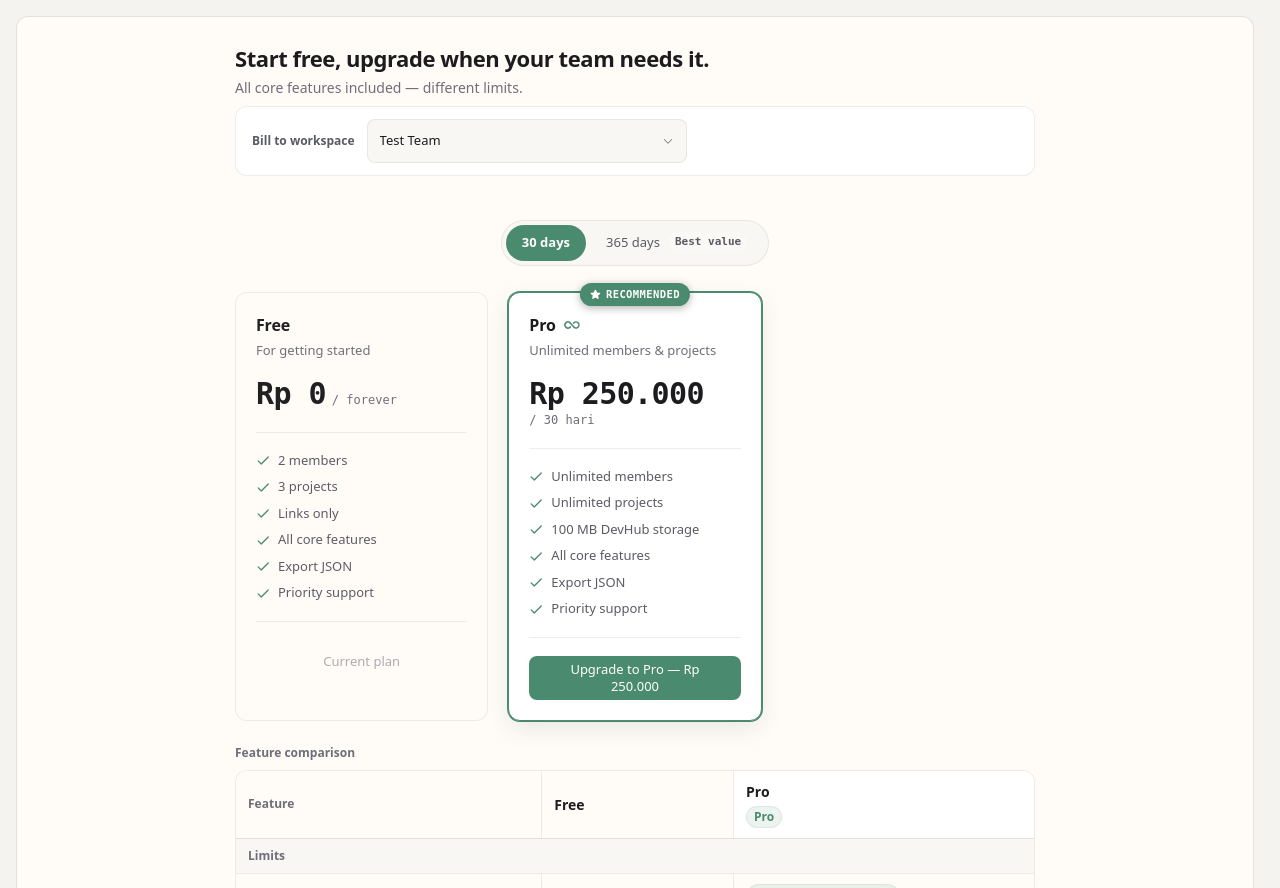
it: PricingPage (single-page flow) › shows checkout error inside the modal and allows retry
Check: the heading "Pro" is shown, box [529, 314, 580, 336]
Click the button "Upgrade to Pro — Rp 250.000".
click(635, 678)  # box [529, 656, 741, 700]
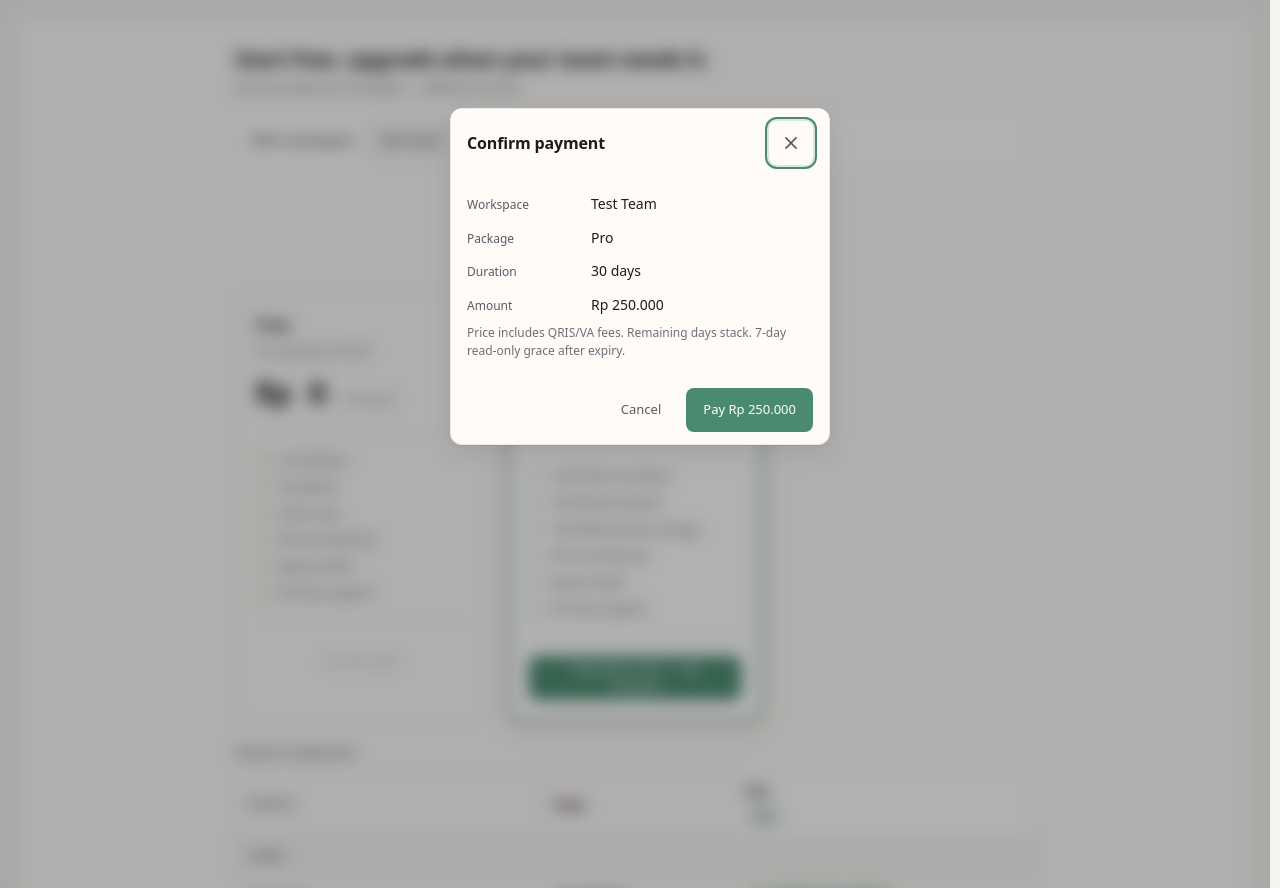
Check: the heading "Confirm payment" is shown, box [467, 133, 605, 153]
Click the button "Pay Rp 250.000".
click(750, 410)  # box [686, 388, 813, 432]
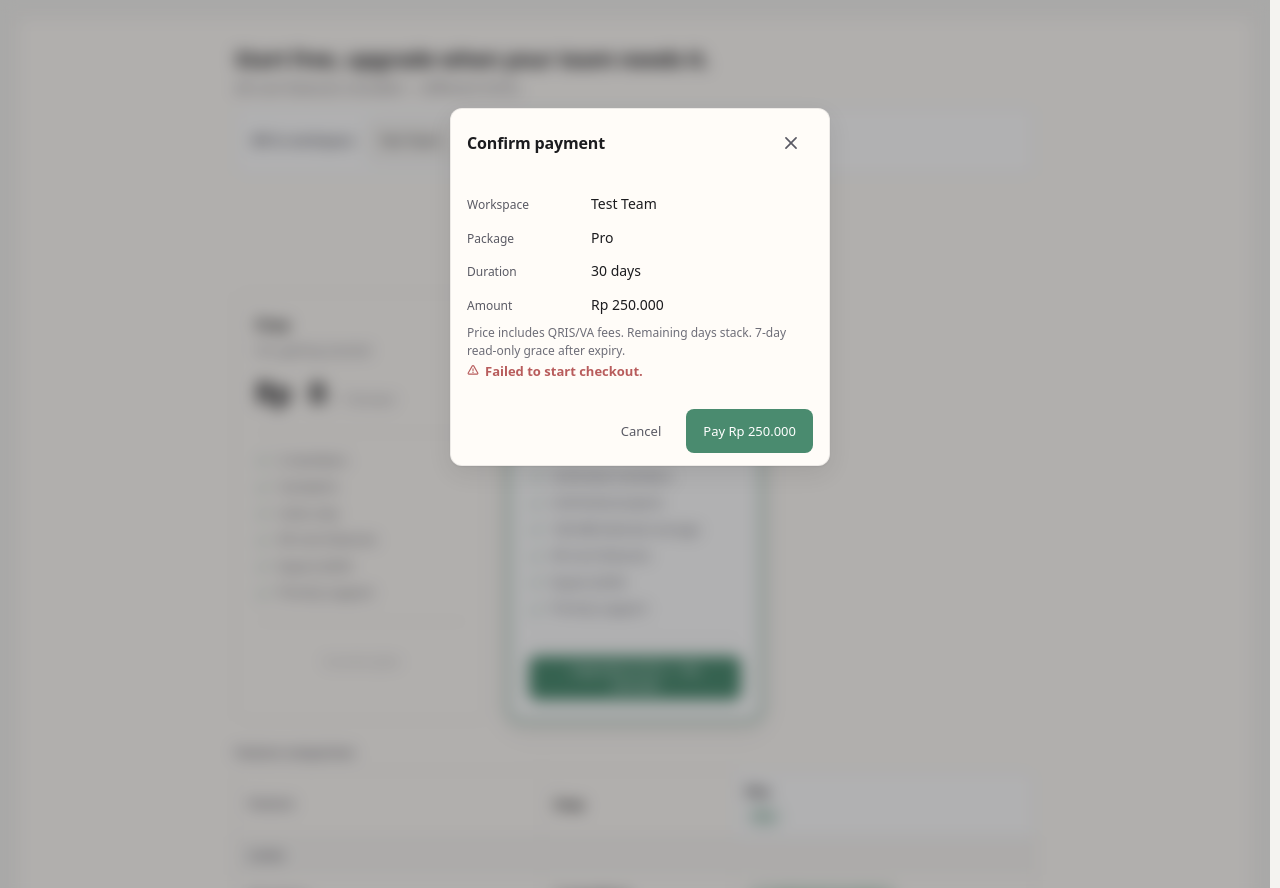
Check: the heading "Confirm payment" is shown, box [467, 133, 605, 153]
Check: the text "Failed to start checkout." is shown, box [467, 362, 643, 381]
